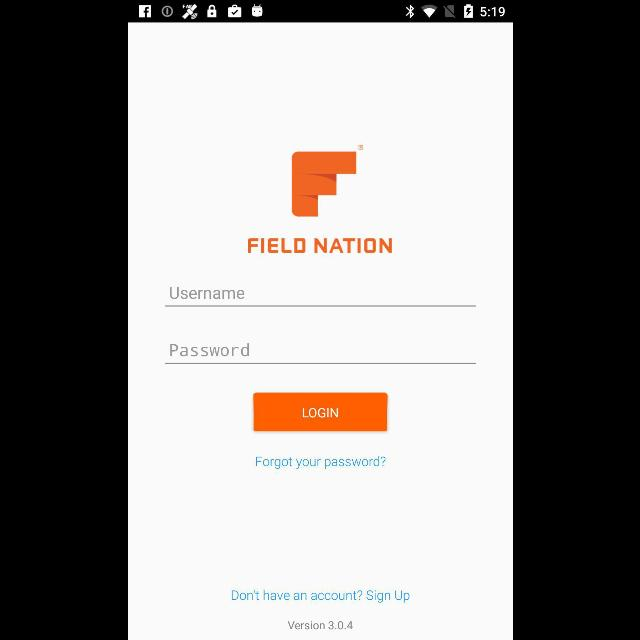image: (291, 145, 363, 217)
input: (164, 287, 476, 307), (164, 344, 476, 364)
text: (247, 238, 391, 254), (231, 590, 409, 602), (255, 456, 385, 469), (170, 344, 248, 356), (170, 287, 244, 299), (286, 620, 352, 630)
textbutton: (253, 392, 387, 432)
uppertaskbar: (128, 1, 512, 23)
